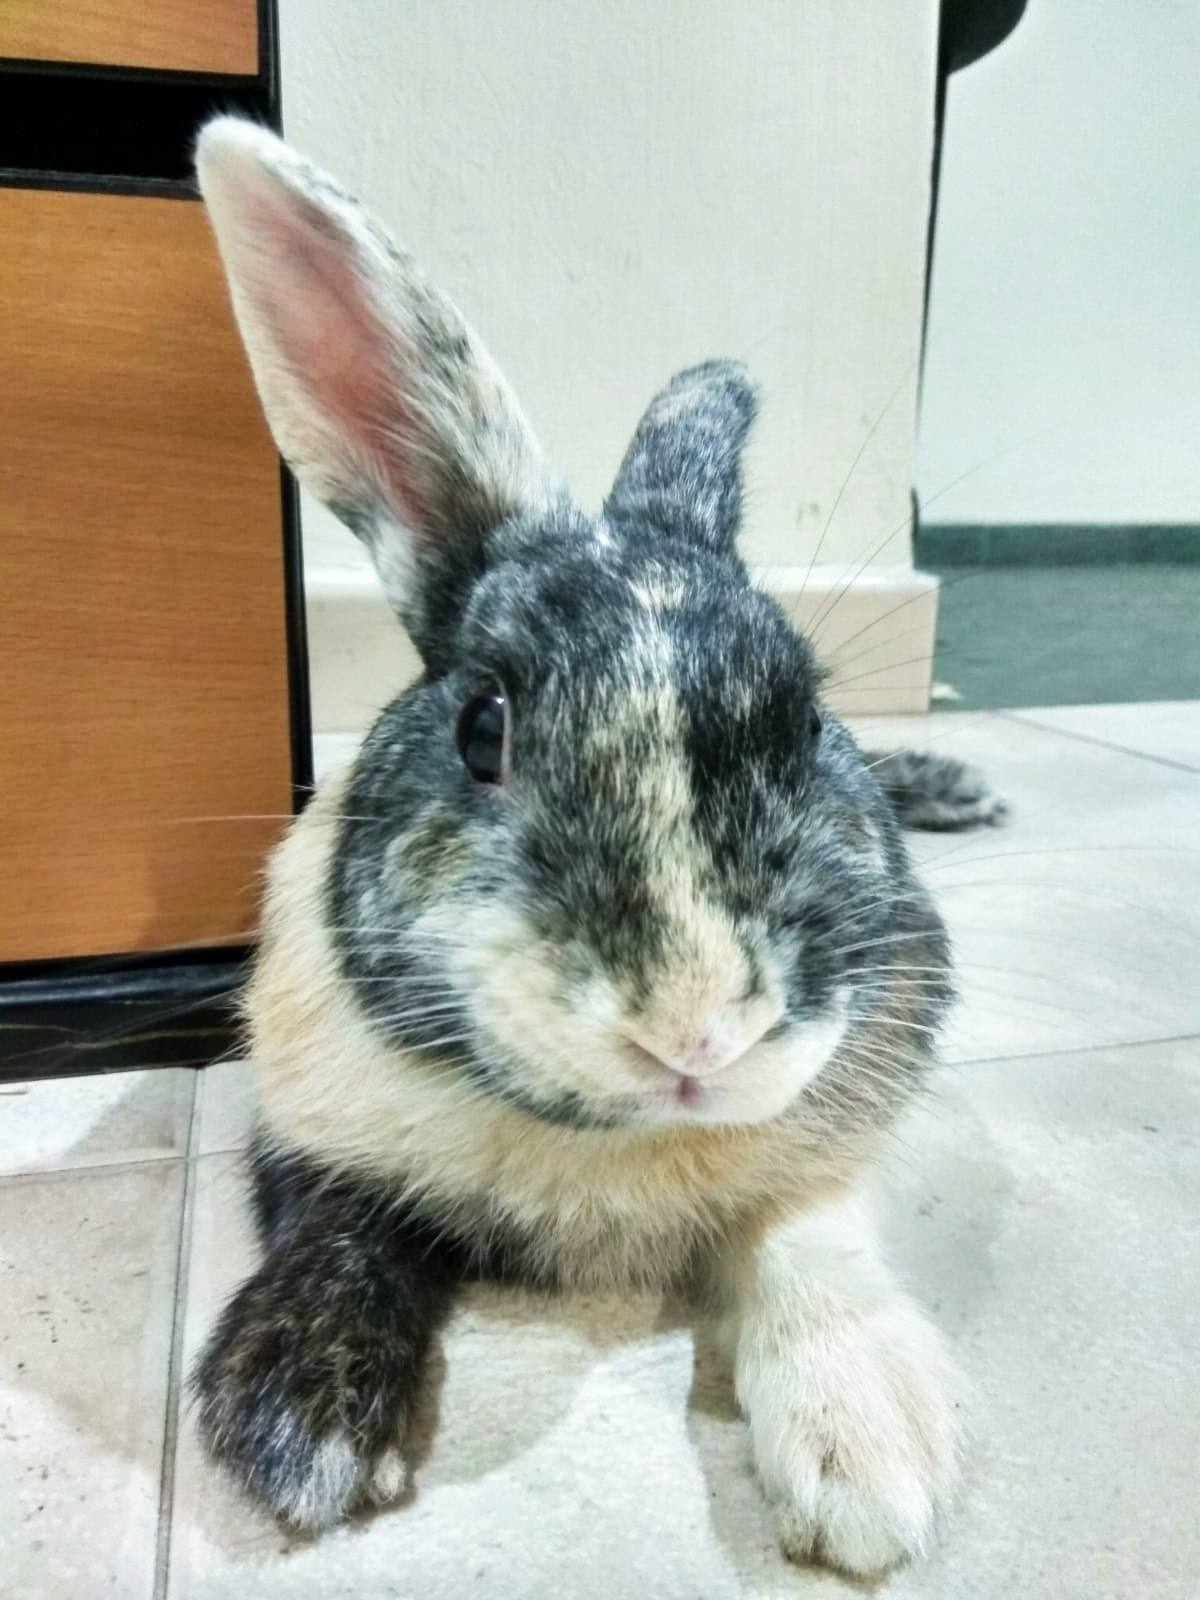bunny: (137, 67, 1047, 1600)
